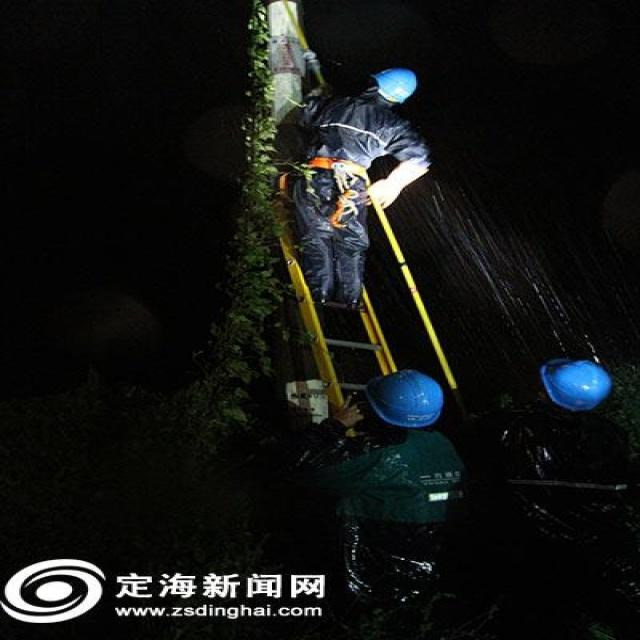helmet: (364, 496, 449, 581), (536, 479, 613, 549), (367, 84, 426, 143)
